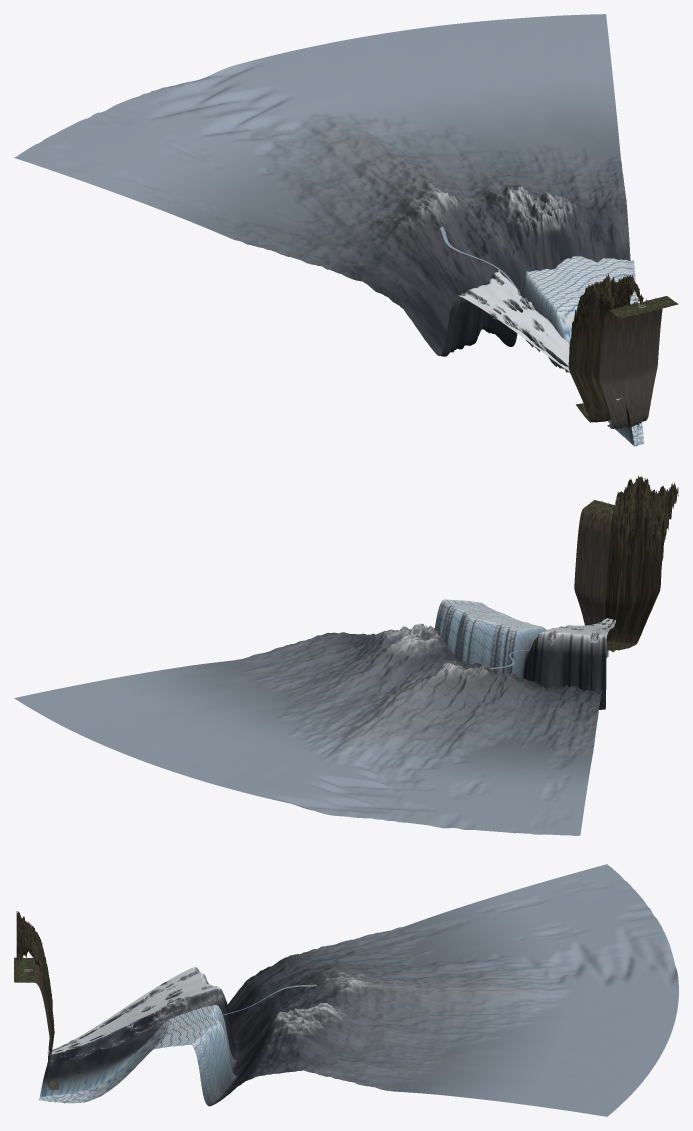
Rendered from glacier-deck.glb.
The picture shows the model from 3 angles, top to bottom: view 1: azimuth 30°, elevation 25°; view 2: azimuth 150°, elevation 25°; view 3: azimuth 270°, elevation 25°; orthographic projection. The views are drawn at different scales.
Visible parts, largest first — view 1: ROOF_FarLand, NearGround, ROOF_LeftSpur; view 2: ROOF_FarLand, ROOF_LeftSpur, NearGround; view 3: ROOF_FarLand, ROOF_LeftSpur, NearGround.
Boxes of the visible parts, left/top/right/bottom form: ROOF_FarLand: left=14, top=14, right=644, bottom=446; NearGround: left=599, top=296, right=678, bottom=429; ROOF_LeftSpur: left=568, top=274, right=643, bottom=422; ROOF_FarLand: left=14, top=599, right=615, bottom=835; ROOF_LeftSpur: left=605, top=475, right=678, bottom=650; NearGround: left=574, top=500, right=615, bottom=652; ROOF_FarLand: left=38, top=864, right=678, bottom=1116; ROOF_LeftSpur: left=16, top=911, right=82, bottom=1077; NearGround: left=14, top=957, right=59, bottom=1090.
Size of the model in its own units: 930 by 280 by 1036.
